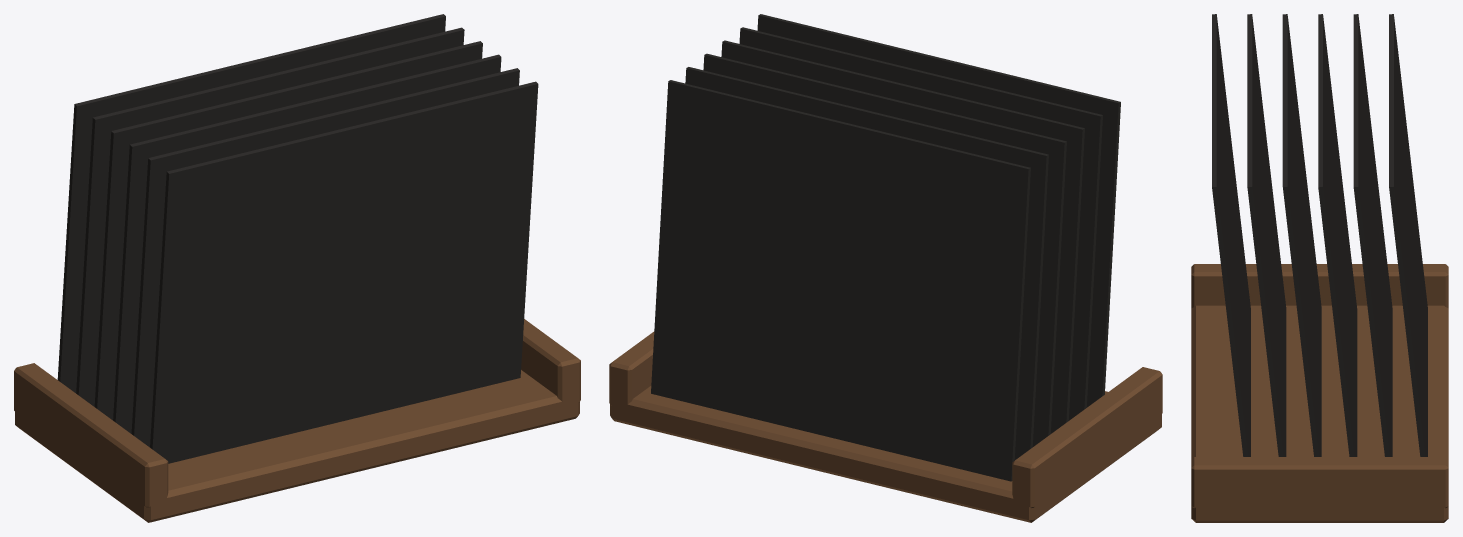
The model's file is dr_plate_rack.glb.
The picture shows the model from 3 angles, left to right: view 1: azimuth 30°, elevation 25°; view 2: azimuth 150°, elevation 25°; view 3: azimuth 270°, elevation 25°; orthographic projection. The views are drawn at different scales.
Visible parts, largest first — view 1: dr_plate_rack; view 2: dr_plate_rack; view 3: dr_plate_rack.
Part boxes in pixels (left/top/right/bottom): dr_plate_rack: left=14, top=14, right=580, bottom=522; dr_plate_rack: left=609, top=14, right=1162, bottom=522; dr_plate_rack: left=1191, top=14, right=1448, bottom=522.
Bounding box in the file's own units: 0.3 × 0.2211 × 0.16.
